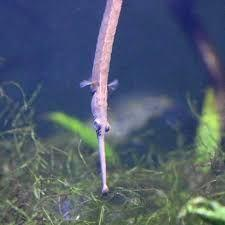Long-Snouted Pipefish: (76, 0, 136, 197)
